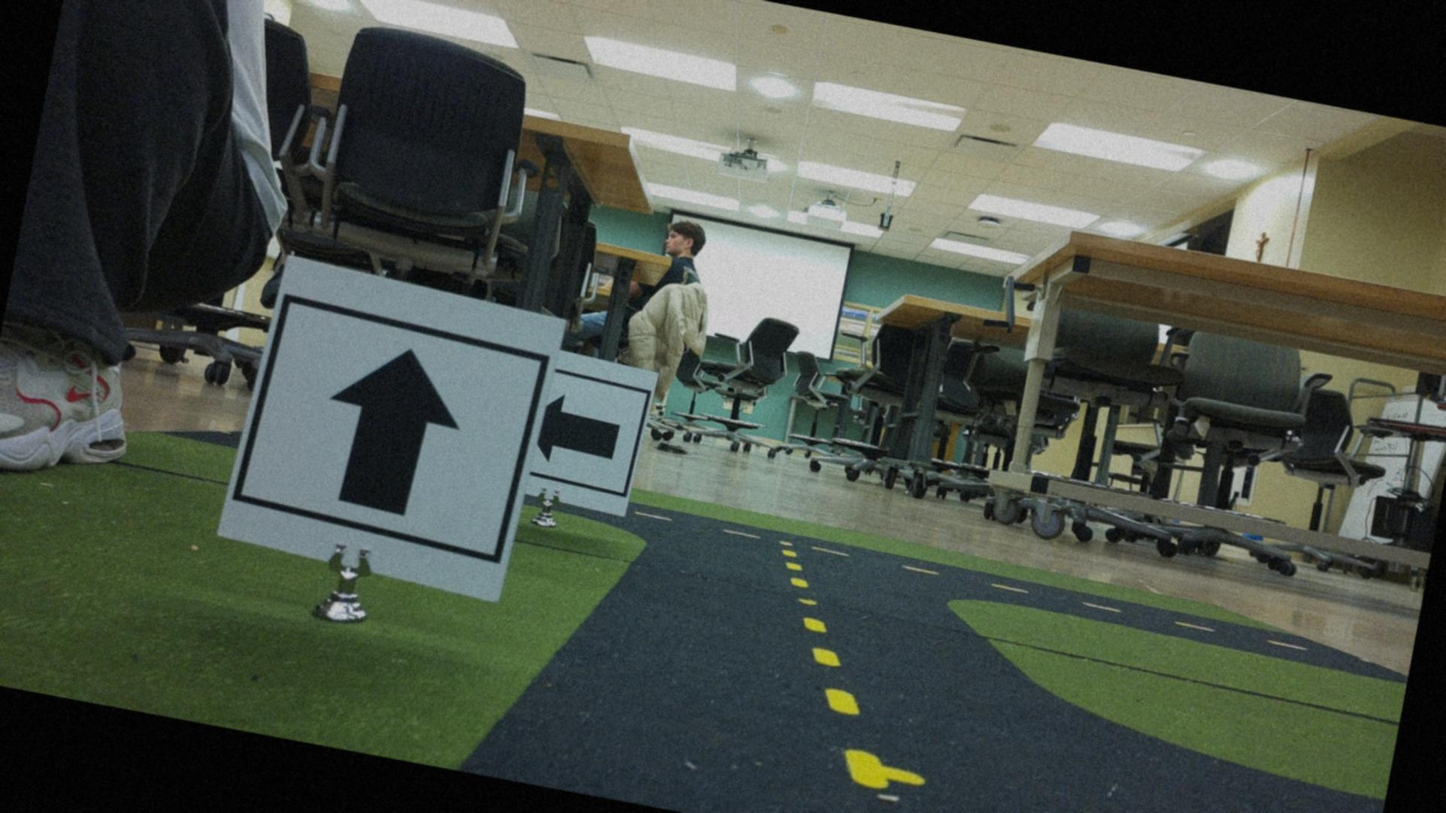gostraight: (223, 263, 543, 593)
turnleft: (532, 377, 654, 504)
yellowline: (740, 537, 923, 790)
